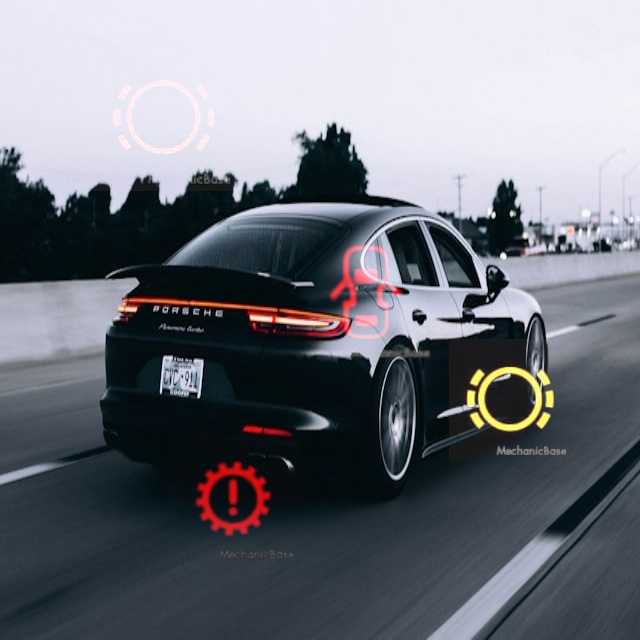symbol: (91, 46, 236, 191), (298, 227, 435, 364), (168, 434, 299, 565), (449, 339, 571, 461)
